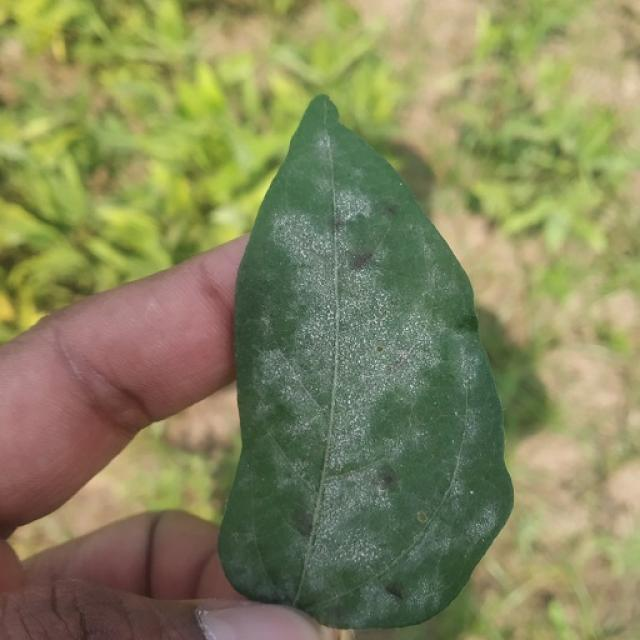Powdery_Mildew: (315, 491, 412, 599), (358, 289, 438, 381), (266, 204, 337, 304), (256, 338, 321, 421), (332, 364, 394, 451), (221, 542, 273, 596), (340, 581, 401, 624), (333, 187, 375, 230), (336, 530, 380, 570), (468, 498, 501, 541), (267, 392, 304, 430), (348, 345, 378, 376), (271, 313, 301, 343), (316, 121, 335, 162), (317, 96, 333, 128), (331, 318, 341, 355), (258, 313, 272, 330), (373, 306, 386, 319), (330, 221, 338, 239), (336, 463, 347, 475), (221, 495, 229, 511), (335, 319, 344, 332), (327, 310, 336, 321), (376, 345, 384, 353), (347, 398, 353, 406), (453, 410, 459, 417), (433, 399, 438, 407), (469, 489, 474, 495), (398, 182, 403, 187)
